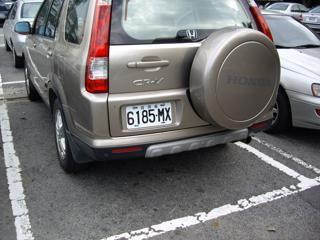plate: (124, 102, 175, 129)
